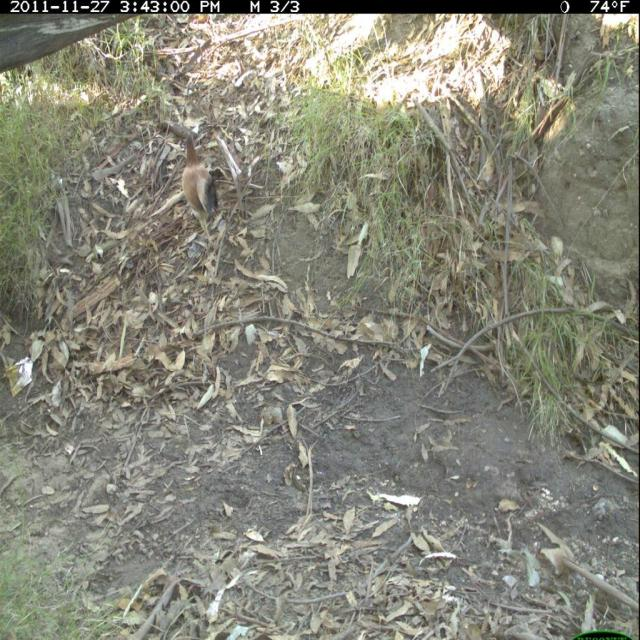bird: (178, 127, 223, 255)
